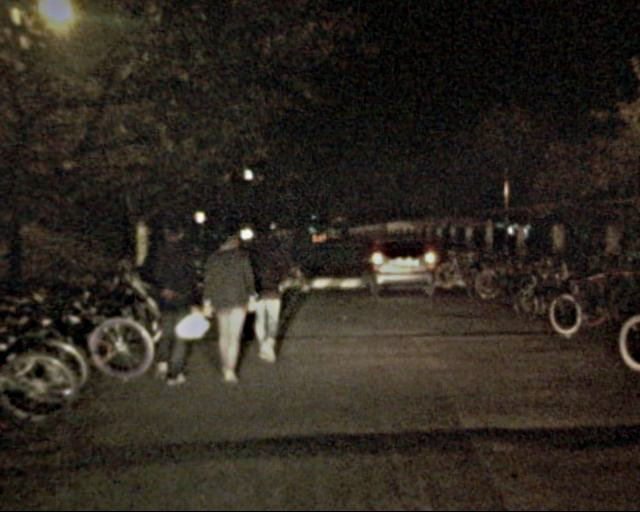person: (136, 213, 210, 387), (196, 229, 258, 381), (233, 224, 297, 365), (275, 221, 306, 301)
